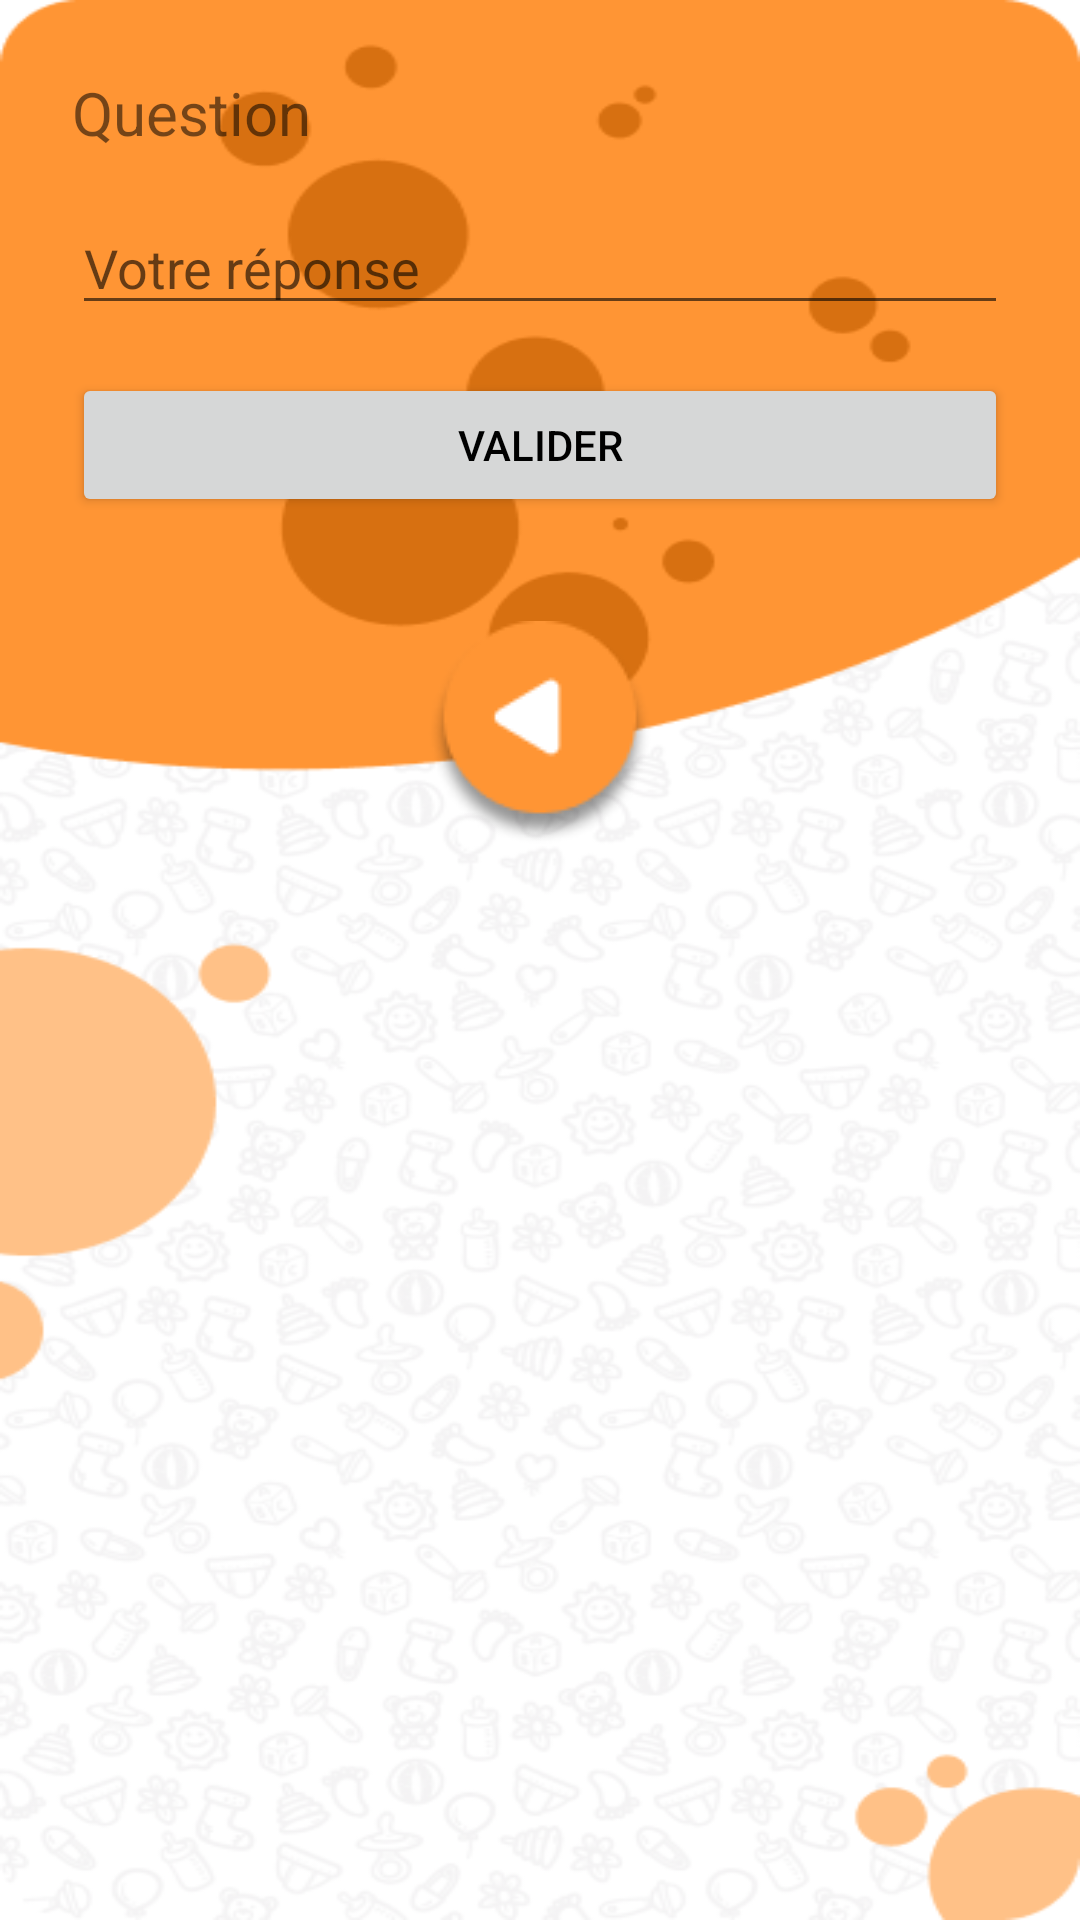

Where to tap for icons on this 1080x1920 app screen, as (x=x, y=y):
Retour: (x=540, y=733)
